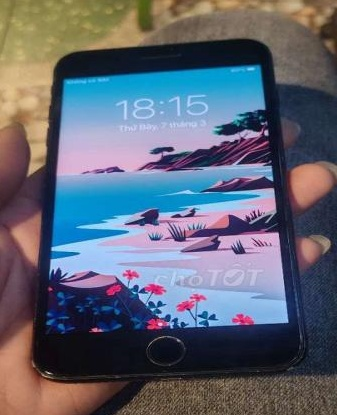scratch: (274, 203, 308, 359), (138, 330, 192, 367), (82, 366, 303, 375), (29, 358, 59, 382)
